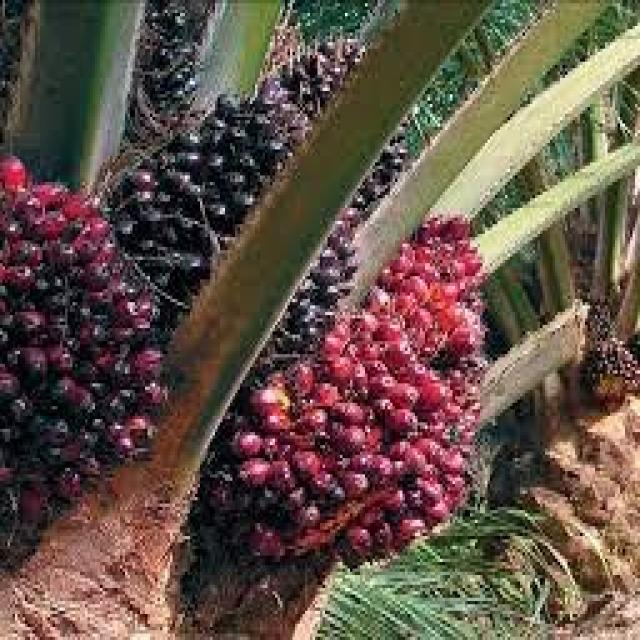Ripefruit: (224, 213, 496, 576), (2, 156, 166, 562)
